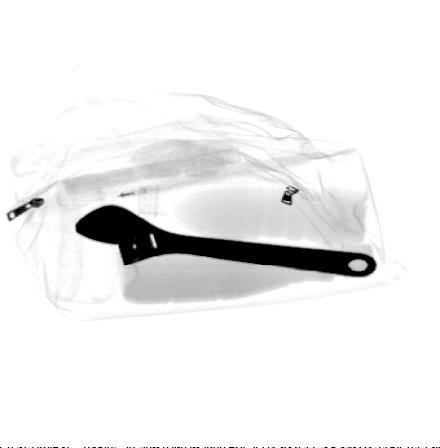Wrench: (73, 201, 379, 279)
